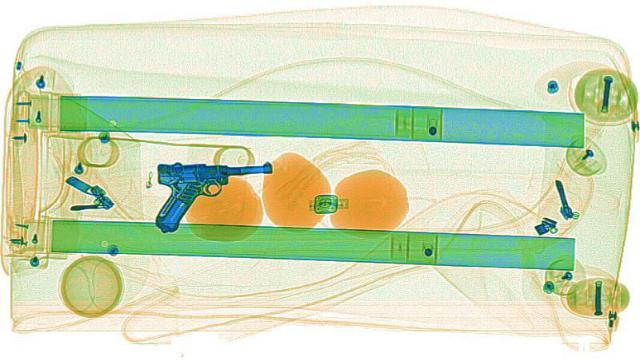Gun: (146, 160, 272, 235)
